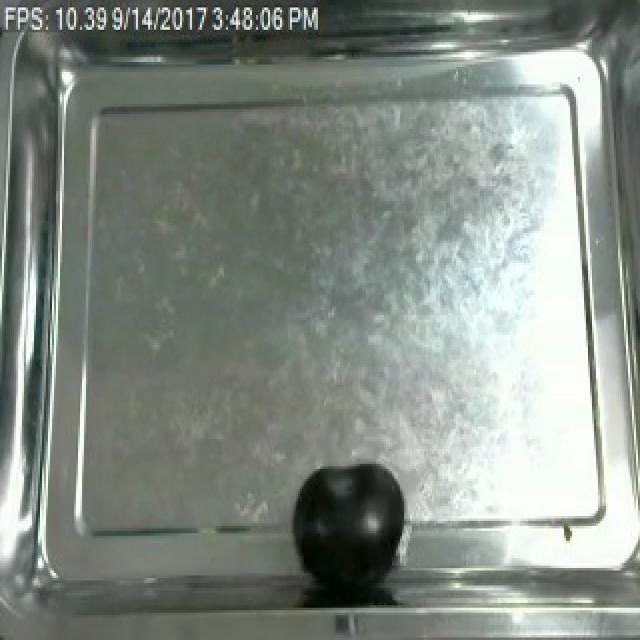Fruit: (286, 451, 412, 588)
